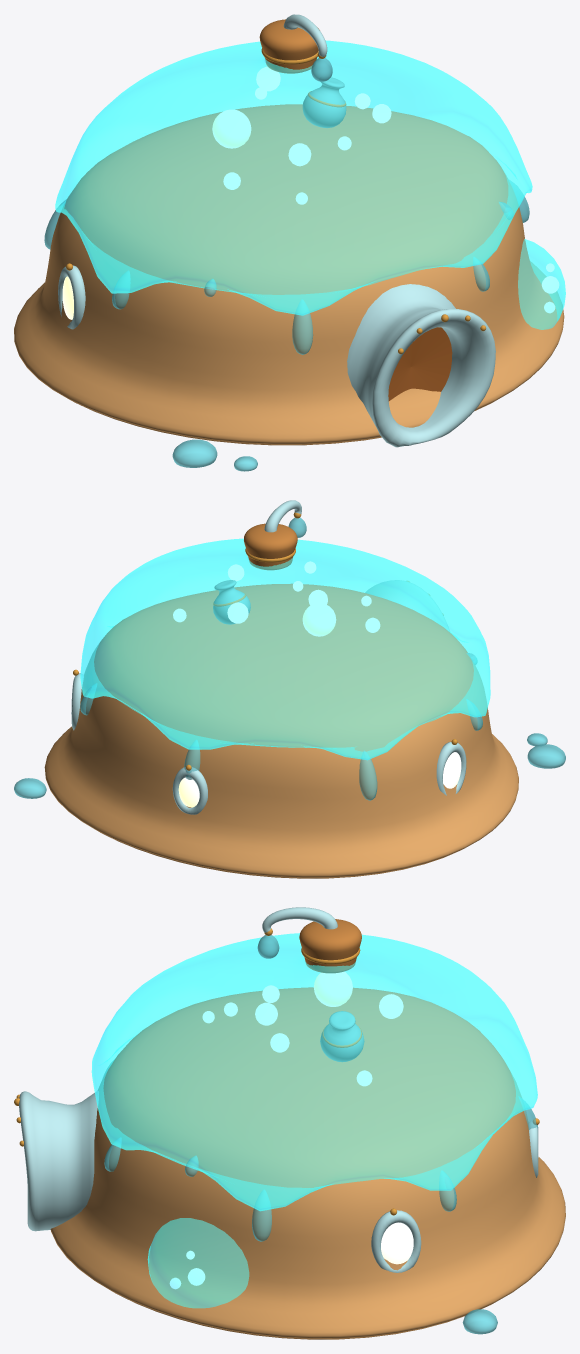
File: house_02_0206.fbx
3 views of the same model, one above another, from view 1: azimuth 30°, elevation 25°; view 2: azimuth 150°, elevation 25°; view 3: azimuth 270°, elevation 25° (orthographic). The views are drawn at different scales.
Parts seen in each view (by area): view 1: House02_Body_Base, House02_Dome_JellyClear, House02_Entrance_Tunnel, House02_Blister_JellyClear, House02_Entrance_Shadow, House02_Top_Plug, House02_Float_Pot, House02_Float_Lamp, House02_Puddle_1, House02_WindowLip_L, House02_Drip_6, House02_Top_Sprout; view 2: House02_Body_Base, House02_Dome_JellyClear, House02_Top_Plug, House02_Entrance_Tunnel, House02_Float_Lamp, House02_WindowLip_Back, House02_Float_Pot, House02_Puddle_1, House02_WindowLip_L, House02_Drip_4, House02_Puddle_3, House02_Top_Sprout (+3 smaller); view 3: House02_Body_Base, House02_Dome_JellyClear, House02_Entrance_Tunnel, House02_Blister_JellyClear, House02_Top_Plug, House02_Float_Pot, House02_WindowLip_R, House02_Window_R, House02_Float_Lamp, House02_Top_Sprout, House02_Drip_1, House02_Puddle_3 (+1 smaller).
Boxes of the visible parts, left/top/right/bottom form: House02_Body_Base: left=14, top=104, right=564, bottom=445; House02_Dome_JellyClear: left=55, top=40, right=532, bottom=315; House02_Entrance_Tunnel: left=347, top=284, right=495, bottom=447; House02_Blister_JellyClear: left=518, top=239, right=565, bottom=329; House02_Entrance_Shadow: left=388, top=327, right=452, bottom=401; House02_Top_Plug: left=259, top=19, right=319, bottom=73; House02_Float_Pot: left=302, top=77, right=346, bottom=127; House02_Float_Lamp: left=212, top=109, right=251, bottom=148; House02_Puddle_1: left=172, top=439, right=217, bottom=467; House02_WindowLip_L: left=58, top=265, right=85, bottom=329; House02_Drip_6: left=292, top=300, right=313, bottom=354; House02_Top_Sprout: left=283, top=14, right=327, bottom=56; House02_Body_Base: left=44, top=583, right=518, bottom=878; House02_Dome_JellyClear: left=80, top=538, right=490, bottom=760; House02_Top_Plug: left=244, top=523, right=297, bottom=570; House02_Entrance_Tunnel: left=365, top=580, right=449, bottom=631; House02_Float_Lamp: left=302, top=603, right=336, bottom=636; House02_WindowLip_Back: left=172, top=767, right=207, bottom=814; House02_Float_Pot: left=213, top=580, right=250, bottom=624; House02_Puddle_1: left=527, top=744, right=565, bottom=768; House02_WindowLip_L: left=436, top=742, right=466, bottom=795; House02_Drip_4: left=359, top=751, right=377, bottom=800; House02_Puddle_3: left=14, top=778, right=46, bottom=798; House02_Top_Sprout: left=264, top=500, right=301, bottom=532; House02_Body_Base: left=50, top=987, right=565, bottom=1339; House02_Dome_JellyClear: left=91, top=933, right=537, bottom=1211; House02_Entrance_Tunnel: left=19, top=1091, right=98, bottom=1231; House02_Blister_JellyClear: left=147, top=1218, right=249, bottom=1308; House02_Top_Plug: left=299, top=919, right=361, bottom=973; House02_Float_Pot: left=320, top=1011, right=364, bottom=1062; House02_WindowLip_R: left=371, top=1210, right=421, bottom=1272; House02_Window_R: left=381, top=1222, right=413, bottom=1264; House02_Float_Lamp: left=314, top=971, right=352, bottom=1006; House02_Top_Sprout: left=262, top=907, right=337, bottom=932; House02_Drip_1: left=252, top=1190, right=271, bottom=1241; House02_Puddle_3: left=462, top=1309, right=497, bottom=1334.
Size of the model in its own units: 6.3 by 3.96 by 6.2.
